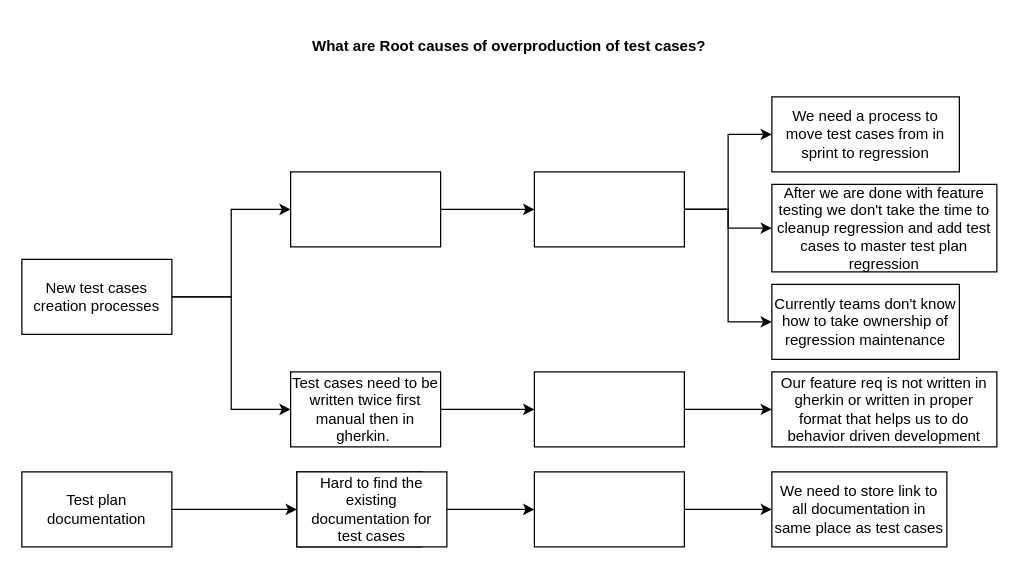
This 1019x569 diagram has some shape labels left out. The shapes that lost their labels are listed below. From the top down, each one's centre as x and y in pixels, then its label:
At point (365, 209): "Lack of documentation on test case creation process".
At point (608, 209): "Need a process to review and clean up existing test cases".
At point (608, 409): "Cannot write test cases directly in gherkin".
At point (608, 509): "Documentation is stored in sharepoint, confluence, edc etc".
